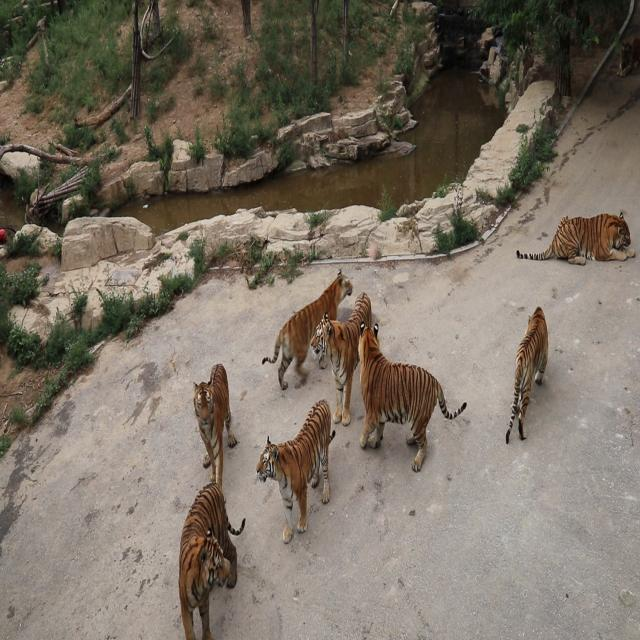Tiger: (357, 319, 467, 472), (252, 385, 347, 545), (170, 477, 245, 639), (259, 267, 353, 390), (180, 341, 245, 492), (310, 290, 373, 430), (515, 210, 635, 265), (504, 304, 550, 446)
